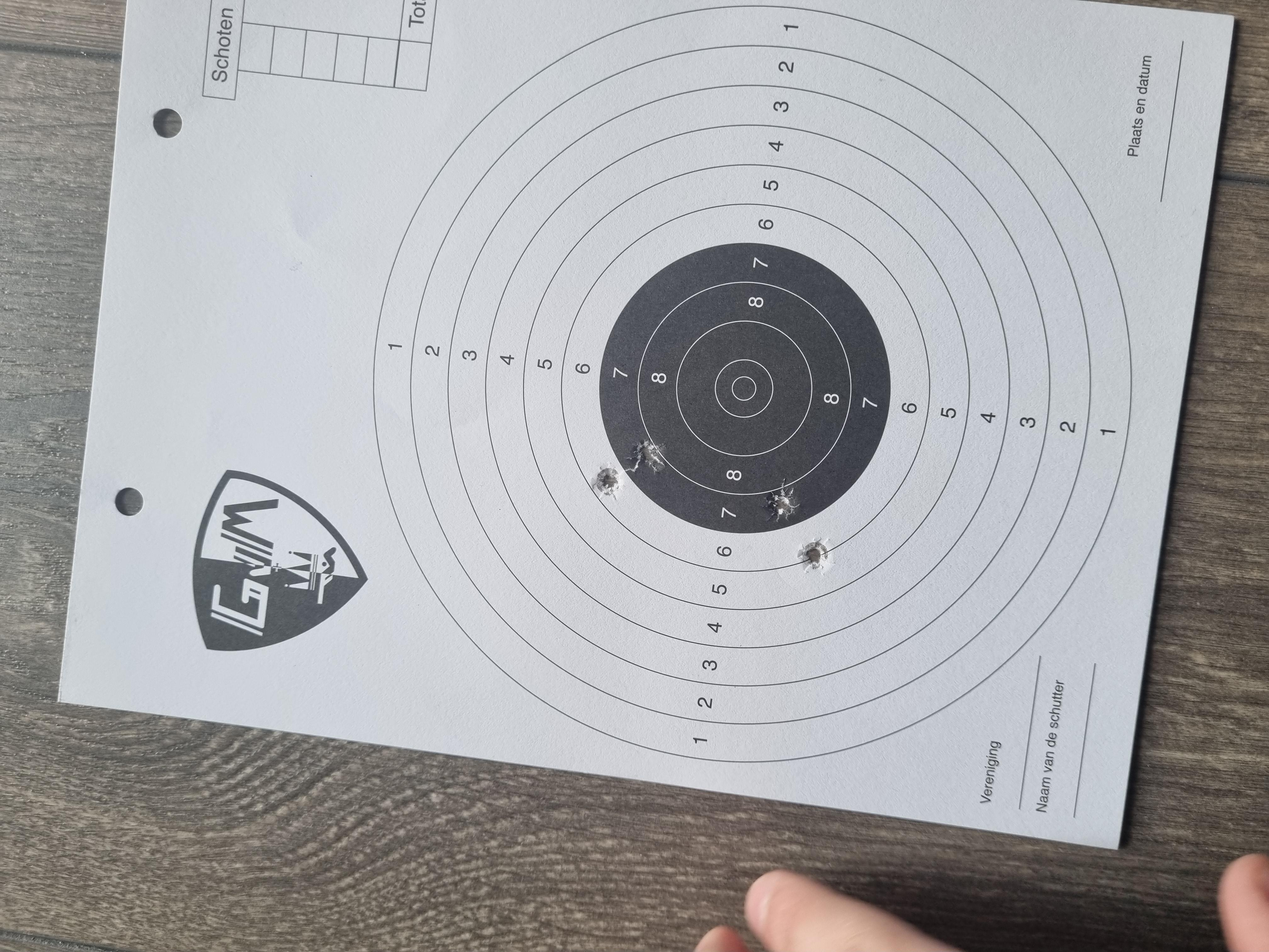hole: (572, 574, 632, 600), (639, 468, 683, 499), (505, 598, 552, 622), (600, 445, 648, 465)
